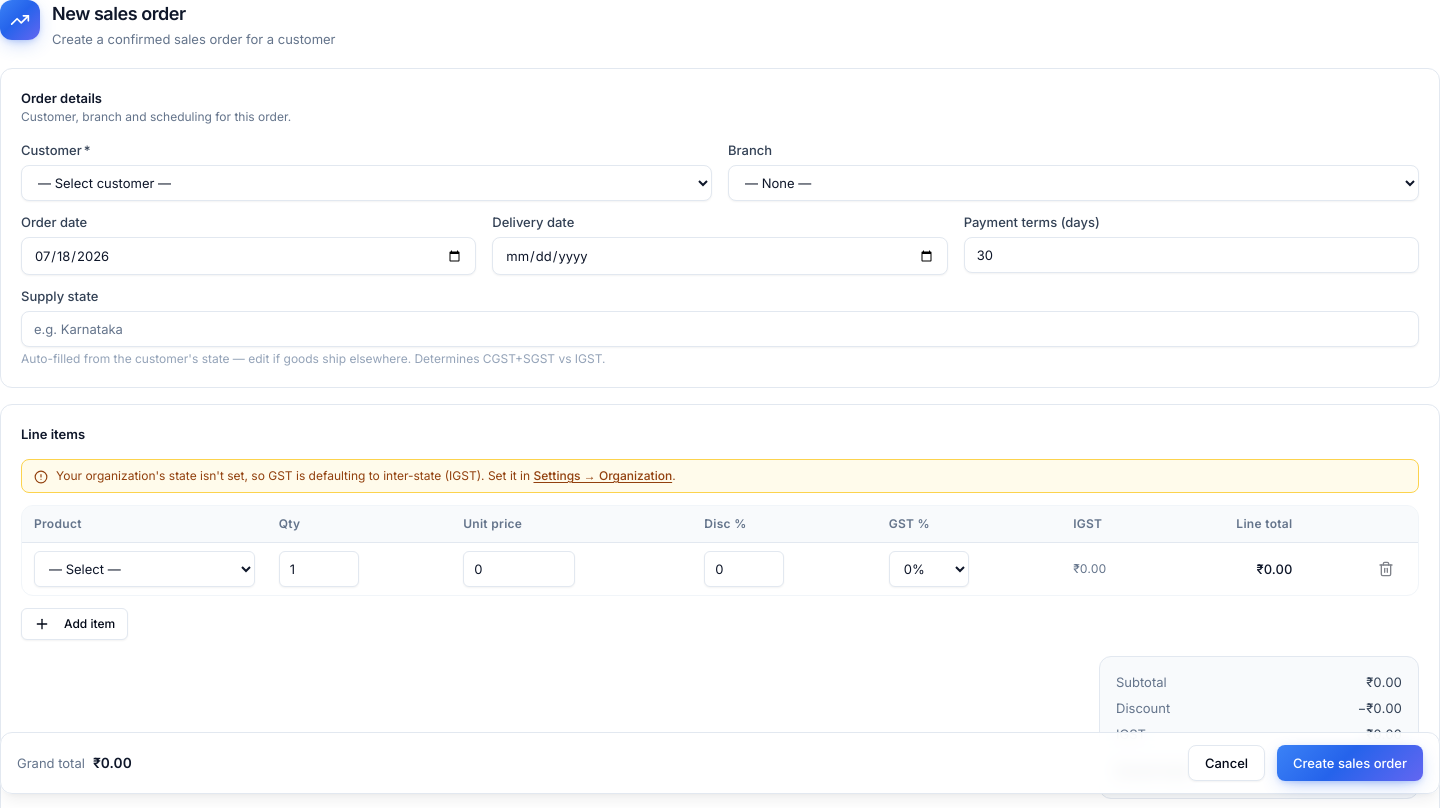
Test: SalesOrderForm › auto-fills supply state from the selected customer's shipping state
The width and height of the screenshot is (1440, 808).
Expected: the field labelled "Supply state" is empty, [21,311,1419,347]
Select "Acme Retail" in the dropdown labelled "Customer*" at (366, 183), box [21,165,712,201]
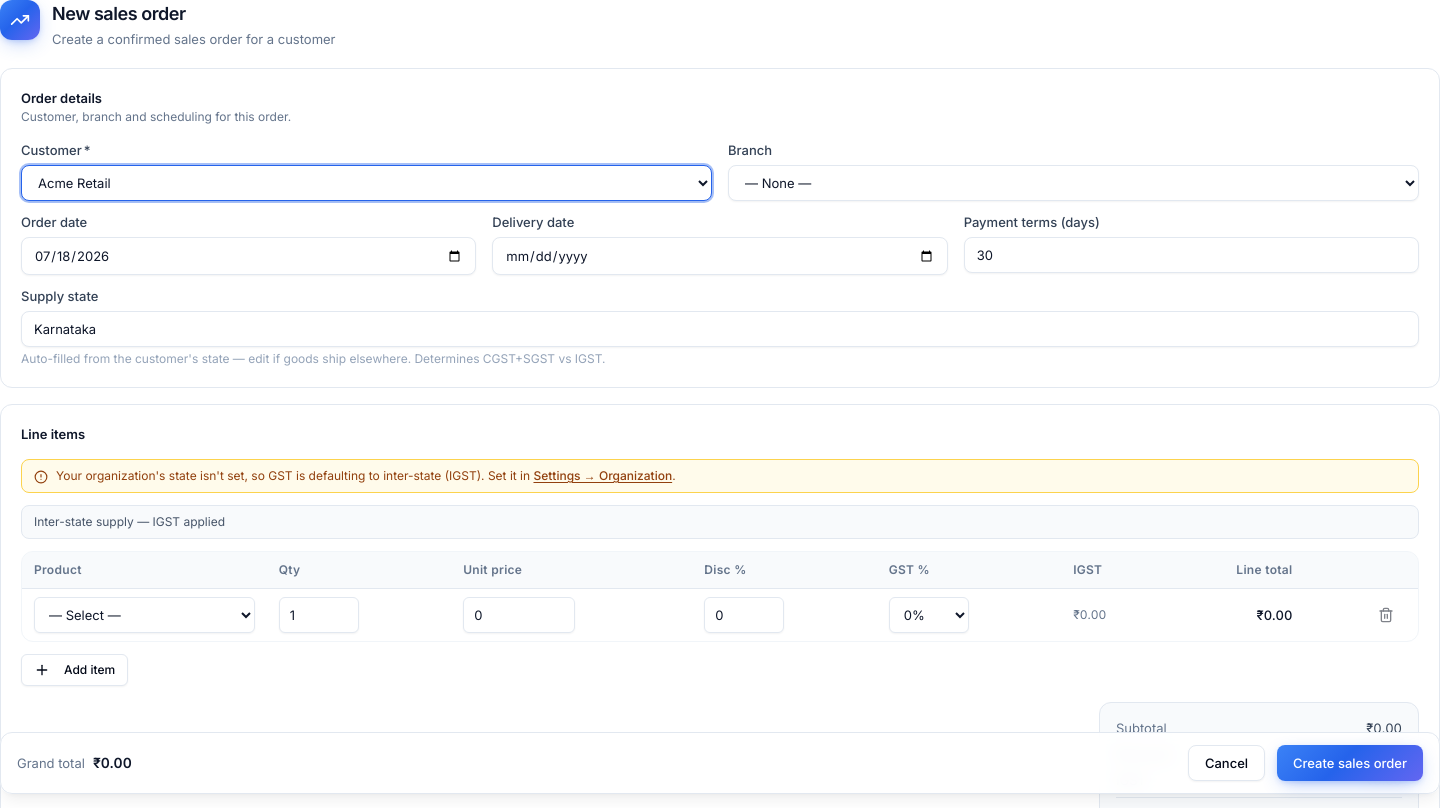
Expected: the field labelled "Supply state" holds "Karnataka", [21,311,1419,347]
